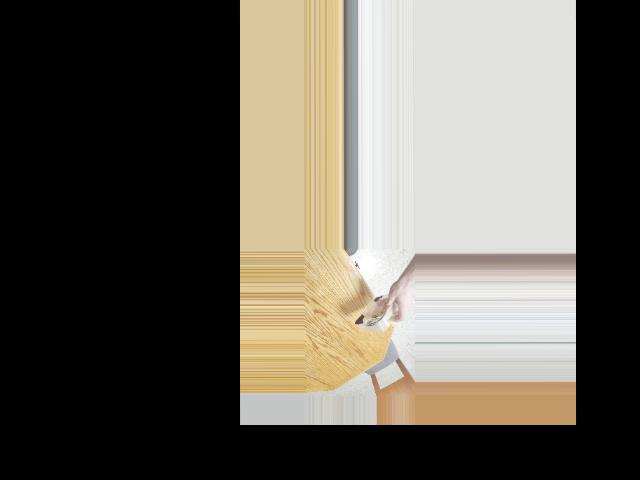cheese: (355, 282, 396, 339)
